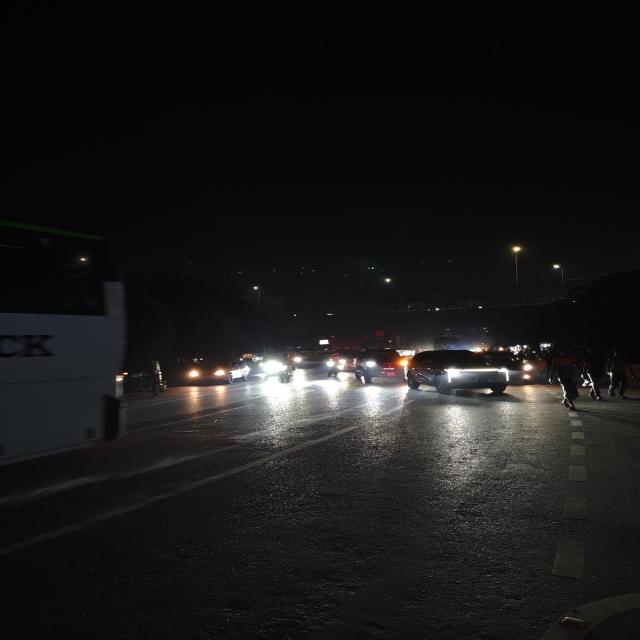bus: (1, 218, 138, 476)
car: (403, 347, 511, 401), (184, 357, 249, 387), (353, 346, 407, 381)
motorcycle: (321, 352, 341, 380), (274, 361, 296, 385)
pedestrian: (546, 349, 588, 413), (604, 348, 634, 400)
